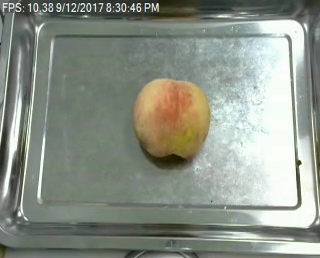Peach: (132, 79, 213, 160)
